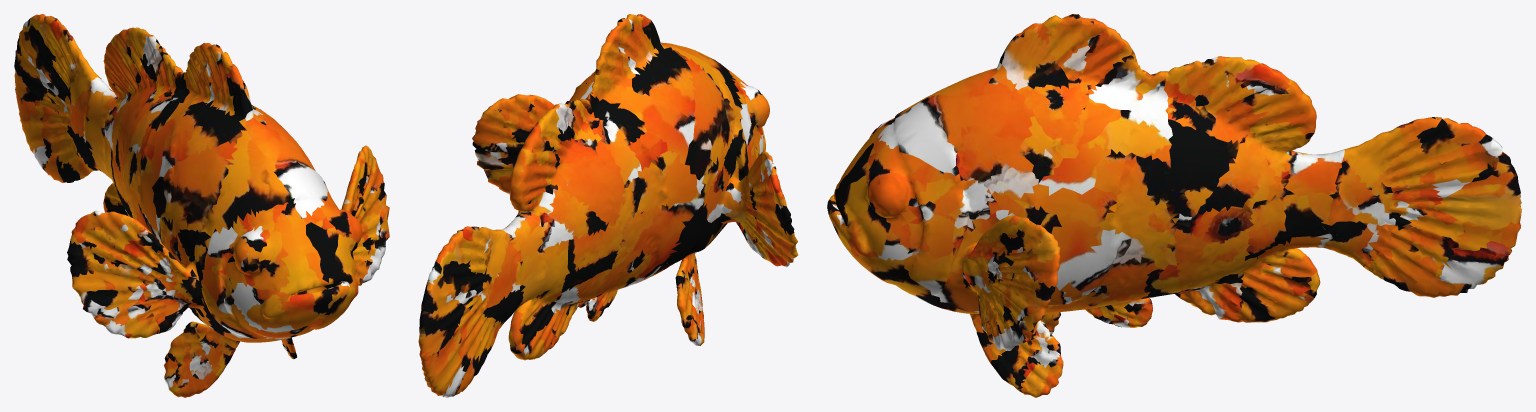
File: clownfish.glb
3 views of the same model, side by side, from view 1: azimuth 30°, elevation 25°; view 2: azimuth 150°, elevation 25°; view 3: azimuth 270°, elevation 25° (orthographic). The views are drawn at different scales.
Bounding box in the file's own units: 0.0652 × 0.0634 × 0.1099.
Materials: 1 (1 with a texture image).
